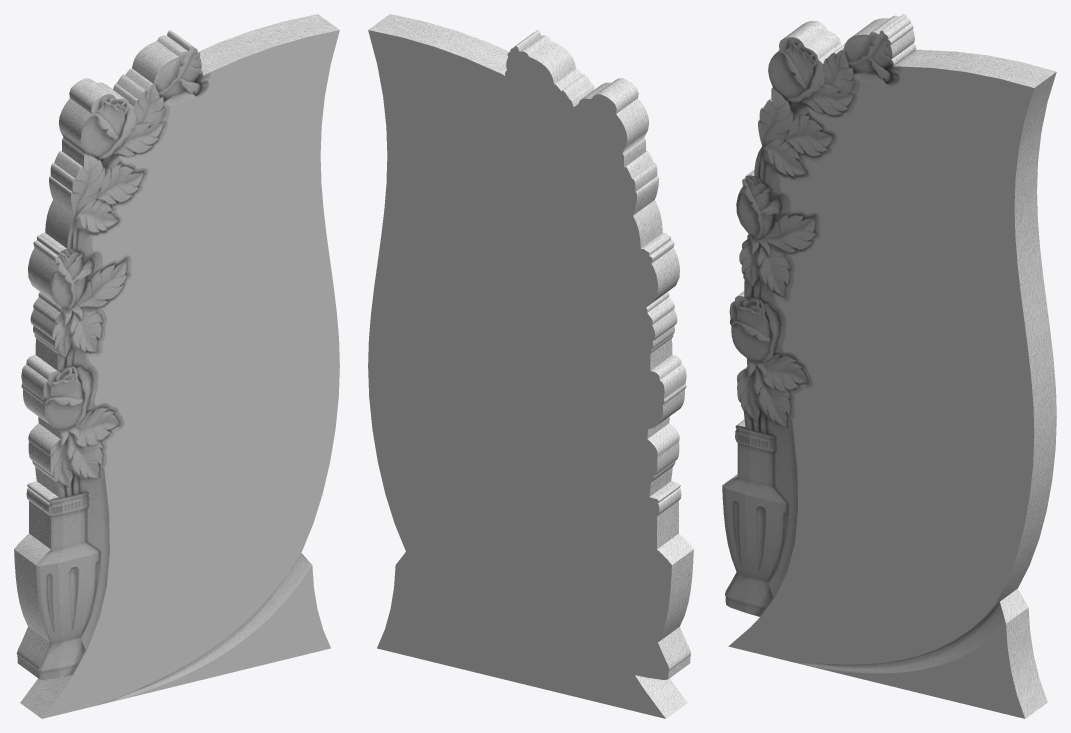
File: cn4304d61c7c_tkf.glb
3 renders of one model, left to right at view 1: azimuth 30°, elevation 25°; view 2: azimuth 150°, elevation 25°; view 3: azimuth 330°, elevation 25°, orthographic. The views are drawn at different scales.
Visible parts, largest first — view 1: Pam-d01-193, Pam-d01-193_2_notexture; view 2: Pam-d01-193, Pam-d01-193_2_notexture; view 3: Pam-d01-193, Pam-d01-193_2_notexture.
Part boxes in pixels (x1,y1,x2,y2): Pam-d01-193: [42, 30, 339, 718]; Pam-d01-193_2_notexture: [14, 14, 339, 718]; Pam-d01-193: [368, 30, 671, 718]; Pam-d01-193_2_notexture: [368, 14, 693, 718]; Pam-d01-193: [728, 66, 1034, 718]; Pam-d01-193_2_notexture: [722, 14, 1056, 718].
Bounding box in the file's own units: 0.4 × 0.8 × 0.05.
1 material, 1 textured.
